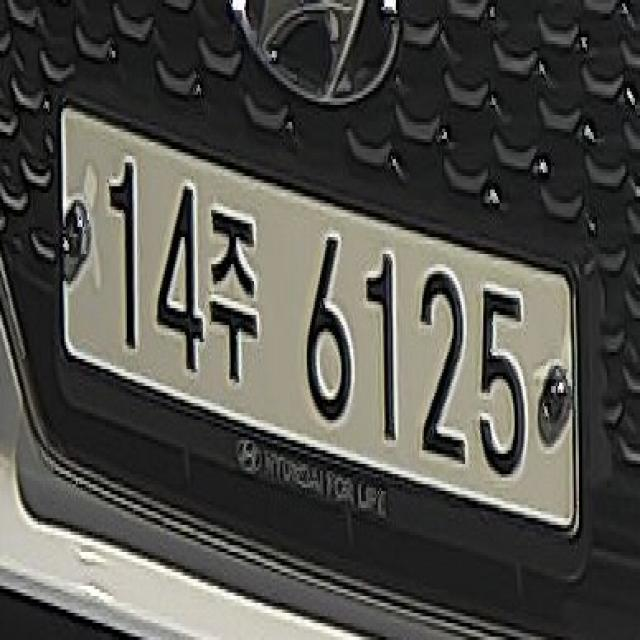1: (358, 227, 406, 450), (102, 132, 145, 369)
2: (411, 251, 470, 474)
4: (150, 149, 206, 389)
5: (470, 268, 531, 488)
6: (298, 220, 359, 427)
ju: (205, 183, 262, 389)
license_plate: (53, 85, 594, 589)
